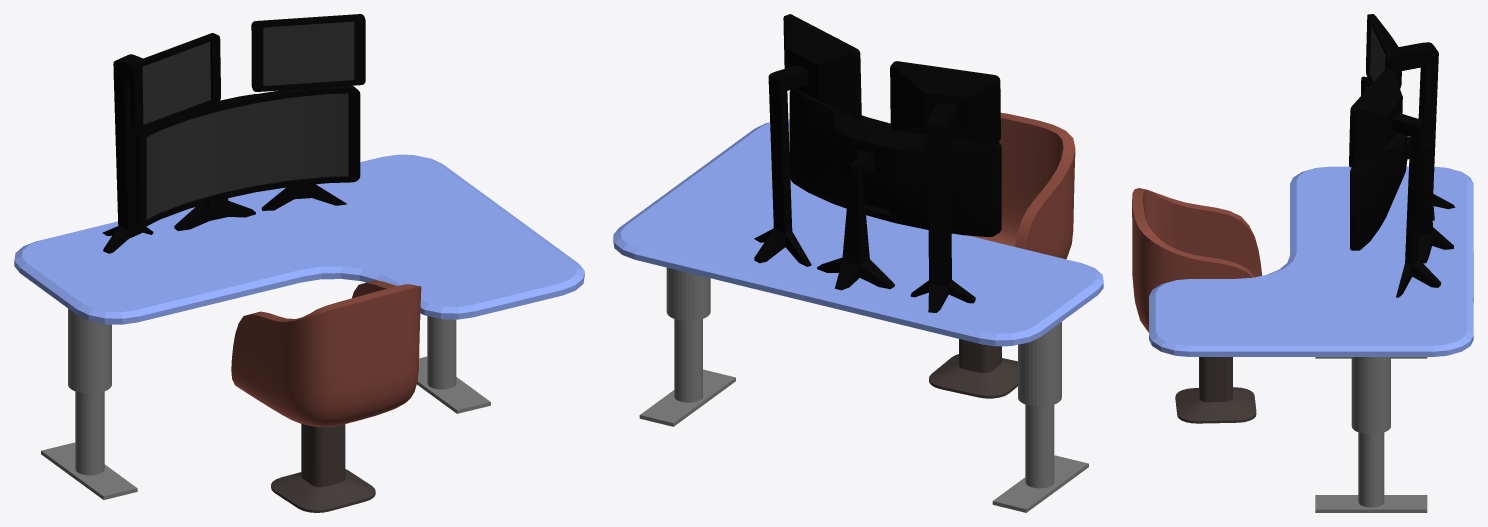
Rendered from Computer.fbx.
3 views of the same model, side by side, from view 1: azimuth 30°, elevation 25°; view 2: azimuth 150°, elevation 25°; view 3: azimuth 270°, elevation 25° (orthographic). The views are drawn at different scales.
Visible parts, largest first — view 1: Desk, Screens, Chair; view 2: Desk, Screens, Chair; view 3: Desk, Screens, Chair.
Part boxes in pixels (x1,y1,x2,y2): Desk: (14,154,584,499); Screens: (102,14,365,253); Chair: (231,280,421,512); Desk: (613,119,1103,512); Screens: (754,14,1001,312); Chair: (929,112,1075,398); Desk: (1149,166,1473,512); Screens: (1349,14,1455,297); Chair: (1132,188,1262,423).
Bounding box in the file's own units: 220 × 199 × 172.
